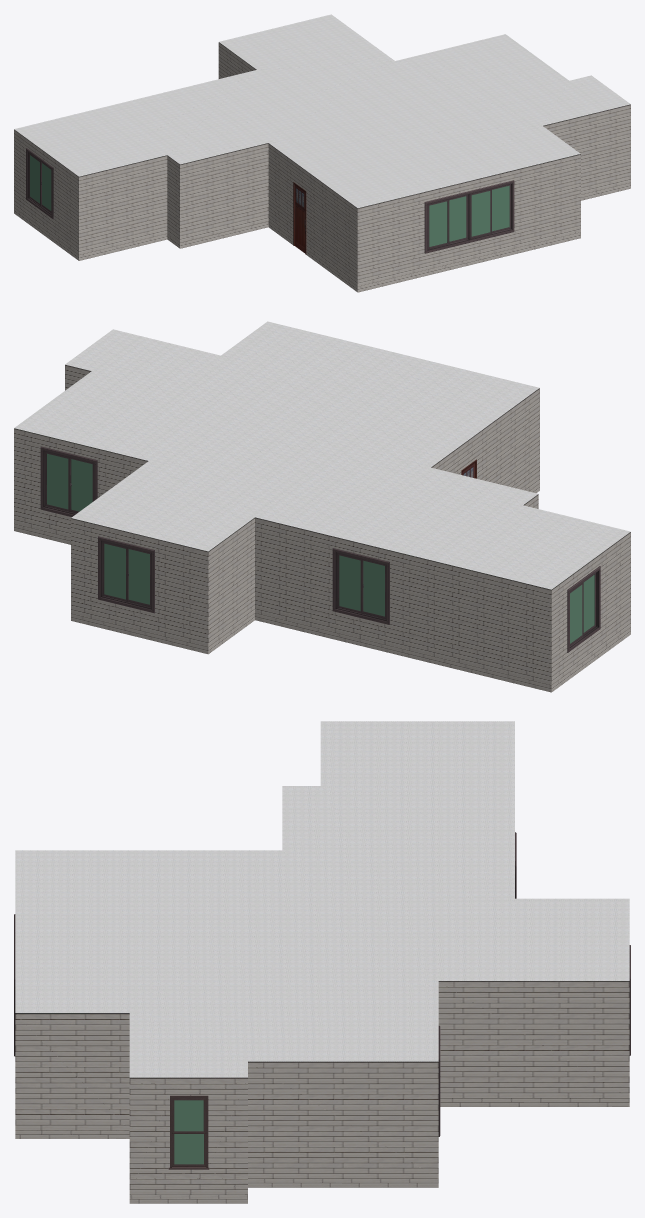
The model's file is house_0120300.FBX.
The picture shows the model from 3 angles, top to bottom: view 1: azimuth 30°, elevation 25°; view 2: azimuth 150°, elevation 25°; view 3: azimuth 270°, elevation 25°; orthographic projection. The views are drawn at different scales.
Visible parts, largest first — view 1: house_0120300_roof_100_00, house_0120300_outwall_100_01, house_0120300_outwall_100_15, house_0120300_outwall_100_13, house_0120300_outwall_100_00, house_0120300_floor_101_00, house_0120300_outwall_100_03, house_0120300_outwall_100_12, house_0120300_floor_104_00, house_0120300_tcx_100_01, house_0120300_outwall_100_14, house_0120300_outwall_101_00 (+5 smaller); view 2: house_0120300_roof_100_00, house_0120300_outwall_100_11, house_0120300_outwall_100_09, house_0120300_outwall_100_12, house_0120300_outwall_100_00, house_0120300_outwall_100_07, house_0120300_outwall_100_10, house_0120300_floor_102_00, house_0120300_floor_105_00, house_0120300_floor_103_00, house_0120300_tcx_100_11, house_0120300_floor_104_00 (+2 smaller); view 3: house_0120300_roof_100_00, house_0120300_outwall_100_08, house_0120300_outwall_100_06, house_0120300_outwall_100_02, house_0120300_outwall_100_04, house_0120300_floor_106_00, house_0120300_tcx_100_06, house_0120300_tcx_100_08, house_0120300_tcx_100_04, house_0120300_tcx_100_02.
Boxes of the visible parts, x1,y1,x2,y2 form: house_0120300_roof_100_00: (14, 14, 630, 208); house_0120300_outwall_100_01: (357, 154, 580, 286); house_0120300_outwall_100_15: (180, 143, 268, 242); house_0120300_outwall_100_13: (79, 156, 167, 254); house_0120300_outwall_100_00: (268, 144, 357, 286); house_0120300_floor_101_00: (424, 180, 514, 253); house_0120300_outwall_100_03: (543, 105, 630, 194); house_0120300_outwall_100_12: (14, 130, 78, 254); house_0120300_floor_104_00: (26, 148, 53, 219); house_0120300_tcx_100_01: (357, 232, 580, 292); house_0120300_outwall_100_14: (167, 156, 179, 242); house_0120300_outwall_101_00: (293, 182, 306, 254); house_0120300_roof_100_00: (14, 321, 630, 589); house_0120300_outwall_100_11: (255, 518, 551, 685); house_0120300_outwall_100_09: (71, 518, 208, 646); house_0120300_outwall_100_12: (551, 532, 630, 684); house_0120300_outwall_100_00: (432, 388, 539, 491); house_0120300_outwall_100_07: (14, 429, 147, 537); house_0120300_outwall_100_10: (208, 518, 254, 646); house_0120300_floor_102_00: (332, 548, 389, 624); house_0120300_floor_105_00: (98, 536, 154, 613); house_0120300_floor_103_00: (40, 446, 97, 516); house_0120300_tcx_100_11: (255, 613, 551, 692); house_0120300_floor_104_00: (567, 566, 600, 652); house_0120300_roof_100_00: (15, 721, 629, 1077); house_0120300_outwall_100_08: (438, 981, 629, 1098); house_0120300_outwall_100_06: (248, 1062, 438, 1178); house_0120300_outwall_100_02: (15, 1014, 129, 1130); house_0120300_outwall_100_04: (129, 1078, 247, 1194); house_0120300_floor_106_00: (168, 1095, 209, 1169); house_0120300_tcx_100_06: (248, 1179, 438, 1187); house_0120300_tcx_100_08: (440, 1098, 629, 1106); house_0120300_tcx_100_04: (129, 1195, 247, 1203); house_0120300_tcx_100_02: (15, 1130, 129, 1138).
Bounding box in the file's own units: 1775 × 292 × 1294.
Materials: 74 (74 with a texture image).
